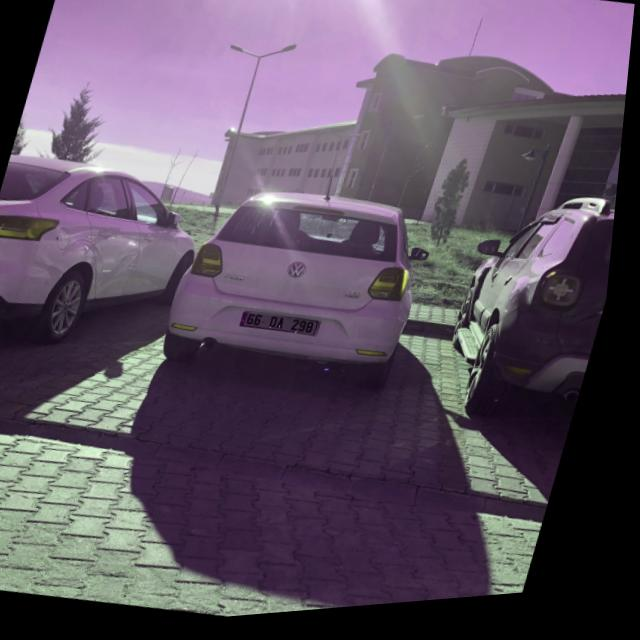license_plate: (246, 312, 329, 346)
